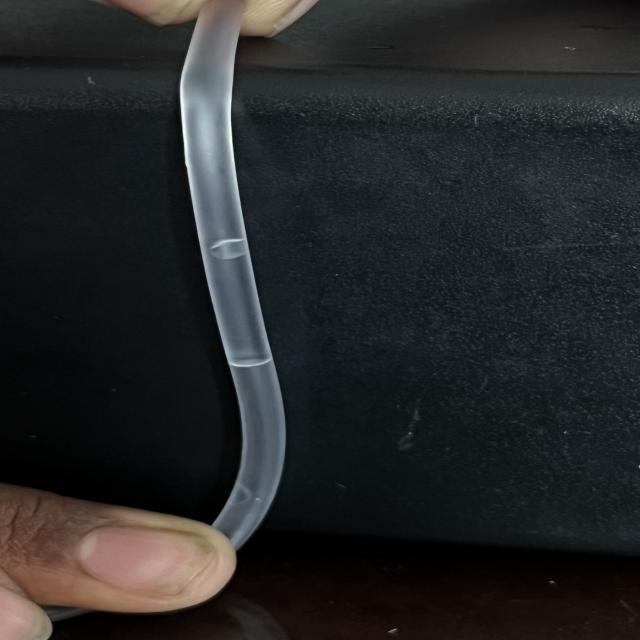bubble: (219, 333, 285, 382), (215, 470, 267, 522), (193, 230, 256, 268)
